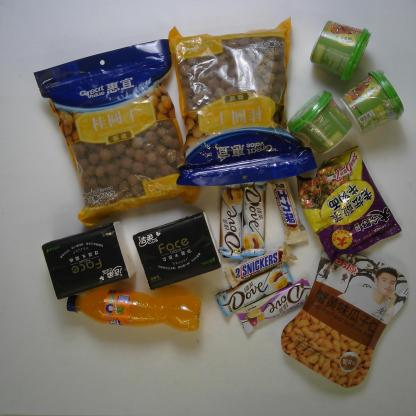Chocolate: (236, 277, 318, 335), (214, 262, 295, 318), (223, 239, 297, 289), (267, 168, 309, 245), (216, 179, 244, 260), (241, 177, 266, 258)
Dried Food: (34, 39, 200, 225), (168, 17, 317, 185)
Dried Fruit: (280, 248, 408, 388)
Drink: (66, 290, 200, 332)
Instant Drink: (340, 68, 404, 134), (287, 90, 352, 154), (310, 21, 371, 80)
Instant Noodles: (295, 146, 401, 261)
Tissue: (40, 221, 136, 301), (132, 212, 221, 291)
